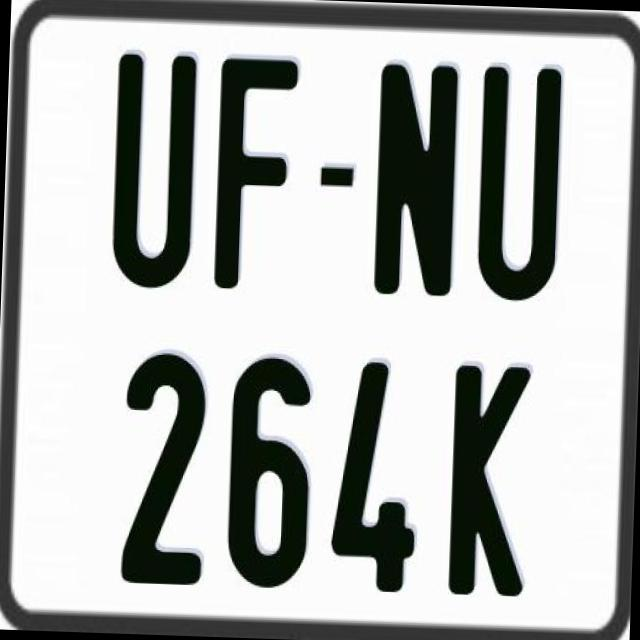2: (119, 350, 210, 583)
4: (328, 356, 426, 596)
6: (226, 350, 316, 584)
F: (213, 53, 305, 290)
K: (446, 362, 532, 594)
N: (372, 63, 462, 306)
U: (472, 62, 562, 304), (106, 51, 198, 286)
